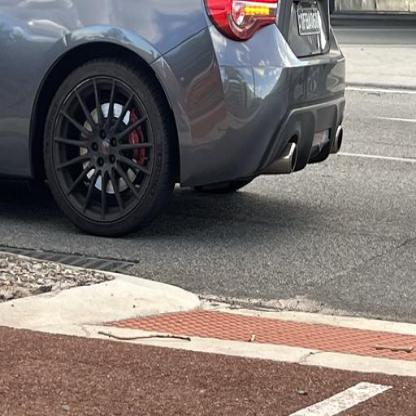Tire: (42, 58, 178, 238)
